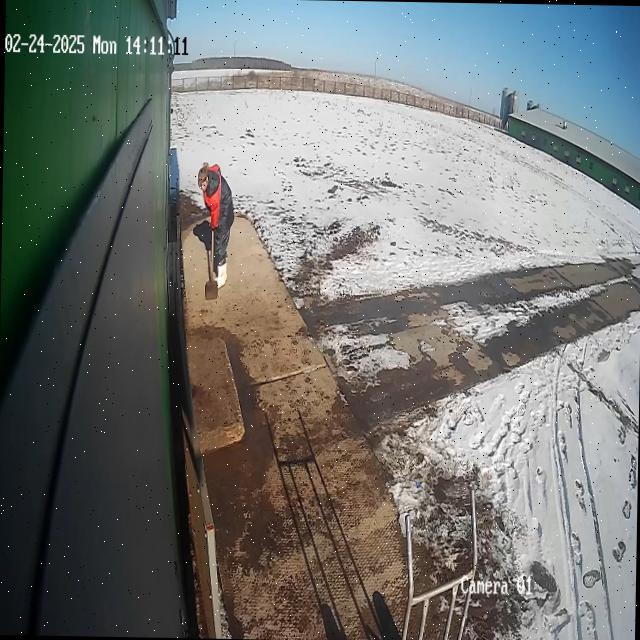Red uniform: (193, 160, 236, 285)
